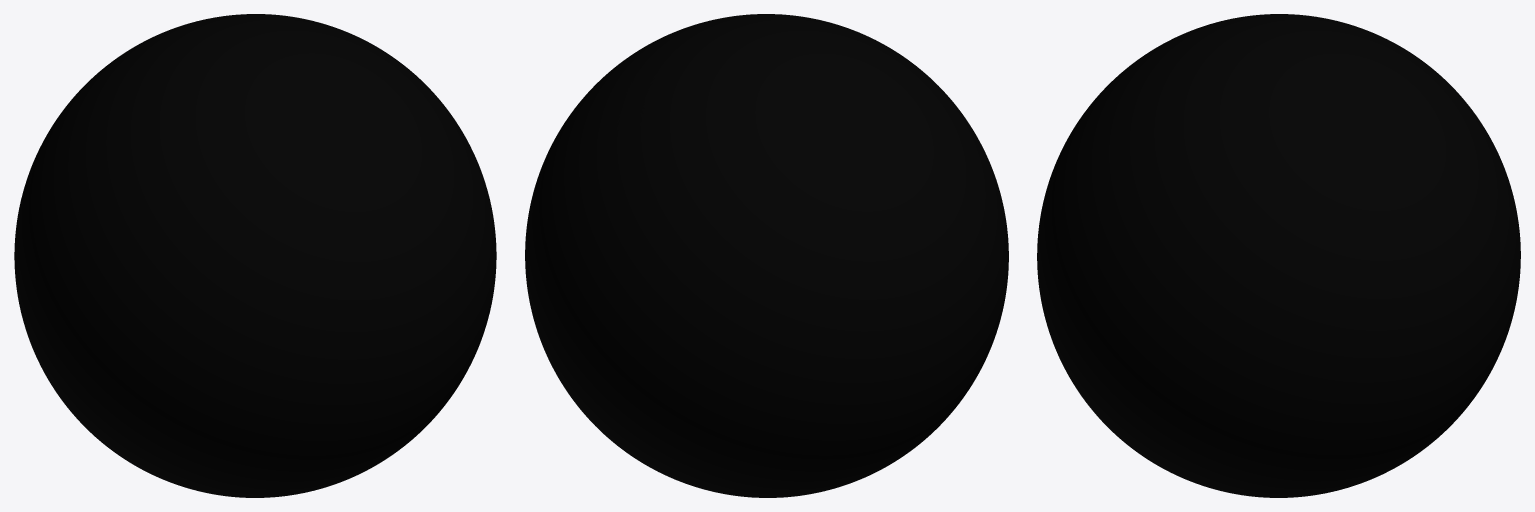
Rendered from sun.glb.
3 renders of one model, left to right at view 1: azimuth 30°, elevation 25°; view 2: azimuth 150°, elevation 25°; view 3: azimuth 270°, elevation 25°, orthographic.
Visible parts, largest first — view 1: Nubes.001; view 2: Nubes.001; view 3: Nubes.001.
Boxes of the visible parts, x1,y1,x2,y2 form: Nubes.001: (14,14,496,497); Nubes.001: (525,14,1008,497); Nubes.001: (1037,14,1520,497).
Size of the model in its own units: 19.26 by 19.3 by 19.26.
2 materials, 2 textured.
